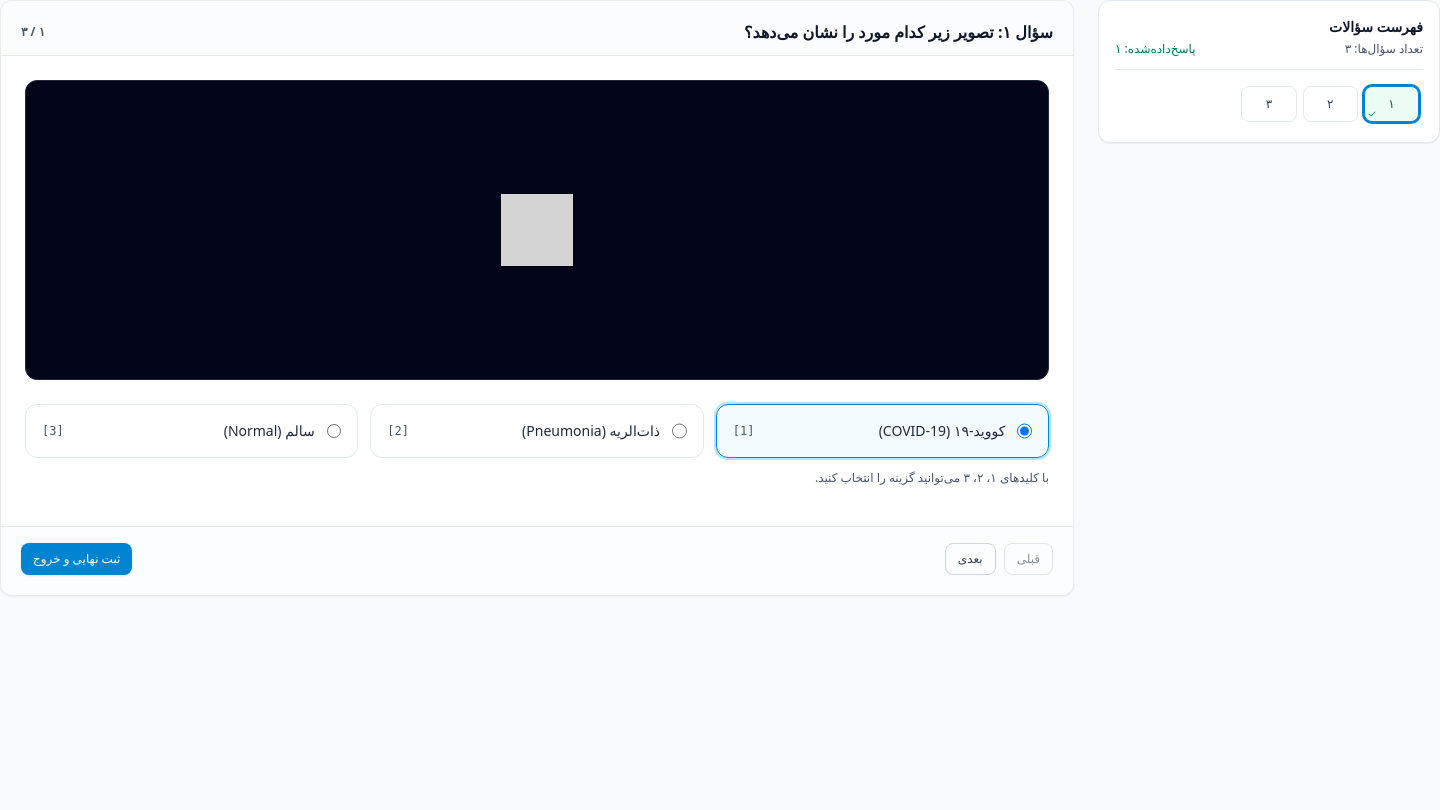
QuizPage › displays translated error alert when finish fails with an ApiError
Check: the heading "سؤال ۱: تصویر زیر کدام مورد را نشان می‌دهد؟" is shown, box [744, 21, 1053, 43]
Click the button "ثبت نهایی و خروج" at (77,559), box [21, 543, 132, 575]
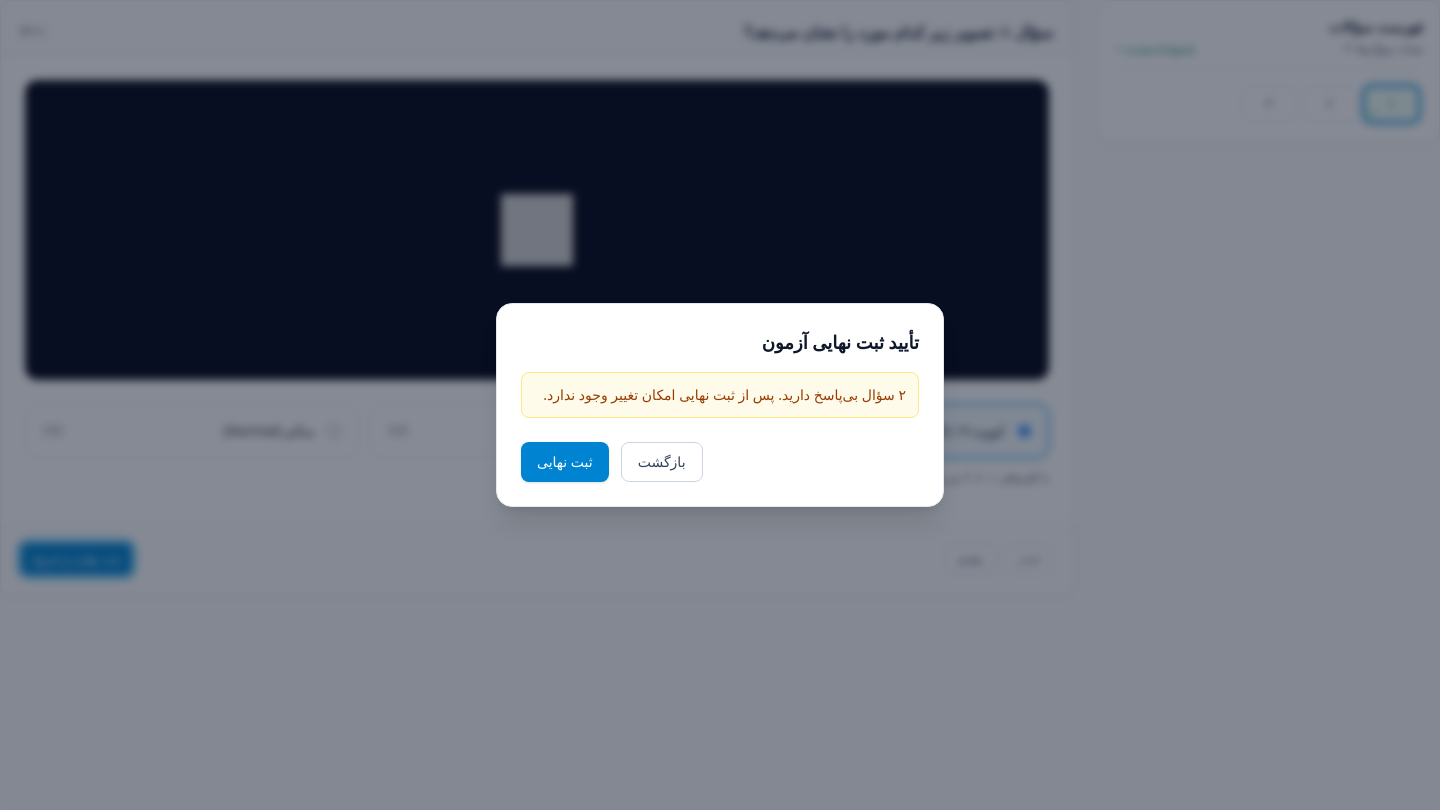
Click the button "ثبت نهایی" at (565,462), box [521, 442, 609, 482]
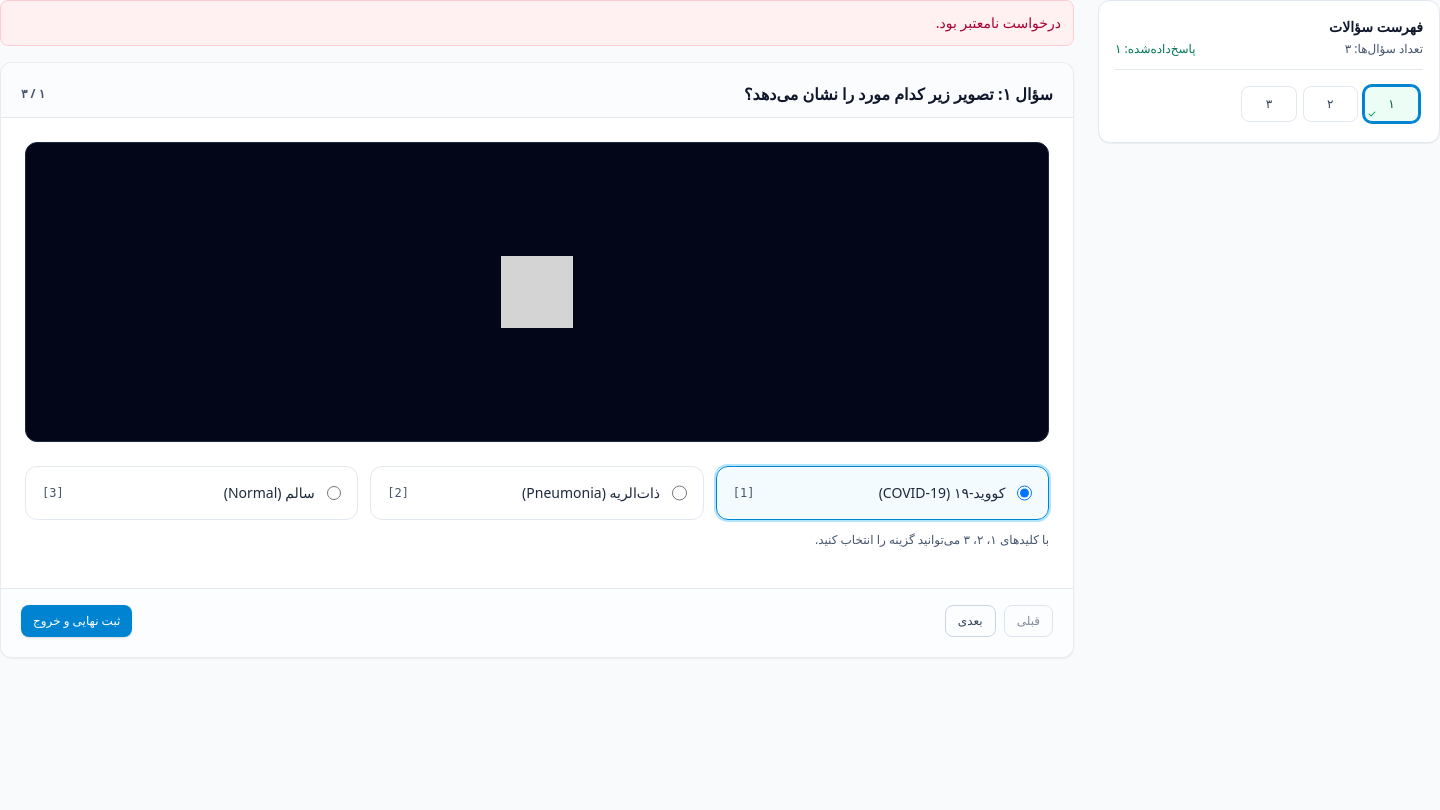
Check: the text "درخواست نامعتبر بود." is shown, box [936, 13, 1061, 32]
